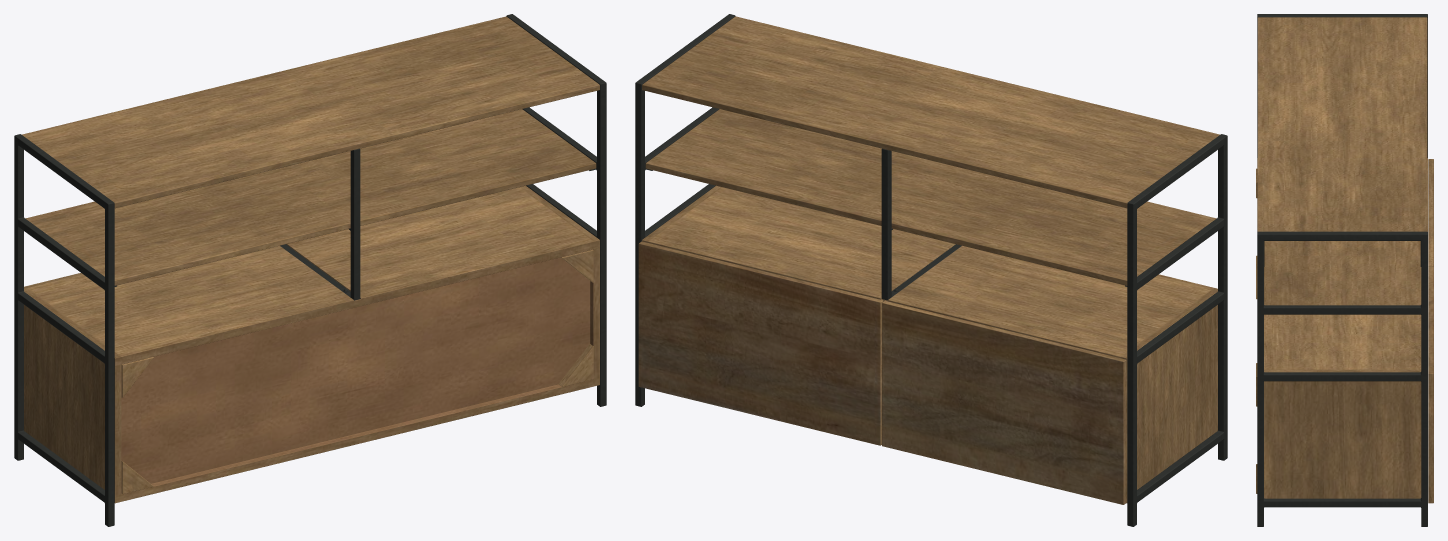
The model's file is abo_B07HSG85ZR.glb.
3 renders of one model, left to right at view 1: azimuth 30°, elevation 25°; view 2: azimuth 150°, elevation 25°; view 3: azimuth 270°, elevation 25°, orthographic. The views are drawn at different scales.
Parts seen in each view (by area): view 1: RootNode; view 2: RootNode; view 3: RootNode.
Part boxes in pixels (x1,y1,x2,y2): RootNode: (14,14,606,526); RootNode: (635,14,1227,526); RootNode: (1256,14,1433,526).
Size of the model in its own units: 1.15 by 0.7118 by 0.3914.
1 material, 1 textured.
